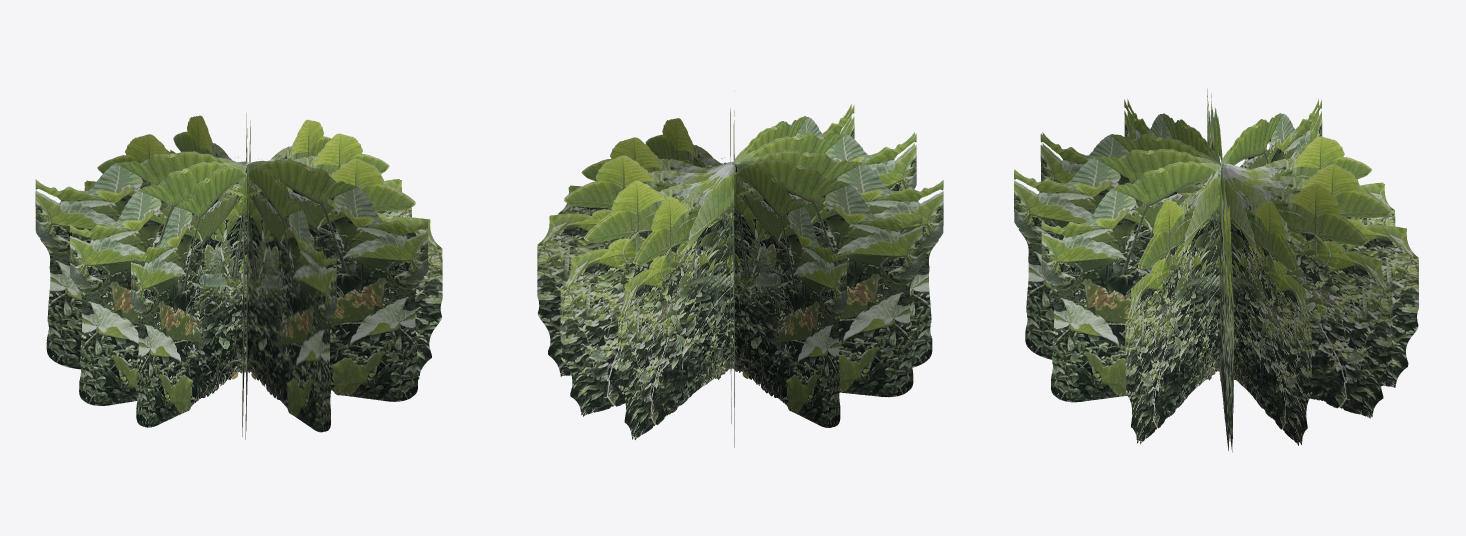
File: Bush 2.fbx
3 views of the same model, side by side, from view 1: azimuth 30°, elevation 25°; view 2: azimuth 150°, elevation 25°; view 3: azimuth 270°, elevation 25° (orthographic).
Parts seen in each view (by area): view 1: Bush_2-removebg.005; view 2: Bush_2-removebg.005; view 3: Bush_2-removebg.005.
Part boxes in pixels (x1,y1,x2,y2): Bush_2-removebg.005: (35,113,442,439); Bush_2-removebg.005: (537,91,943,447); Bush_2-removebg.005: (1014,88,1418,452).
Size of the model in its own units: 133 by 101 by 133.
